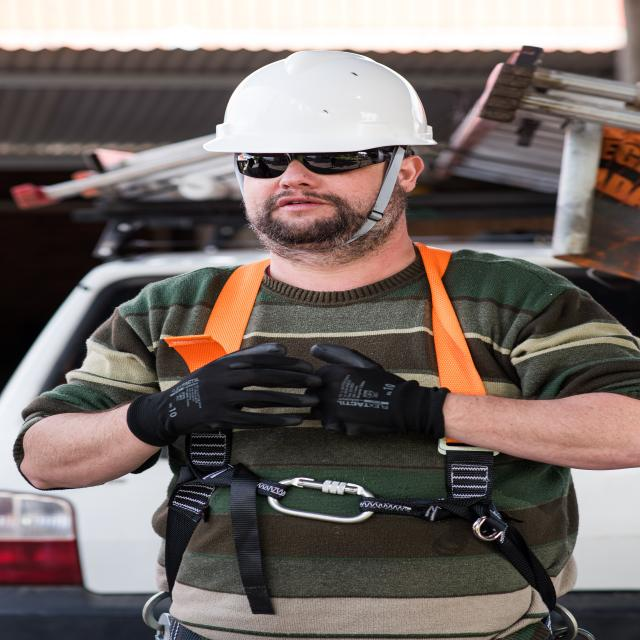capacete: (198, 48, 452, 160)
corda de vida: (138, 235, 603, 640)
luva: (119, 338, 319, 448), (288, 338, 460, 439)
